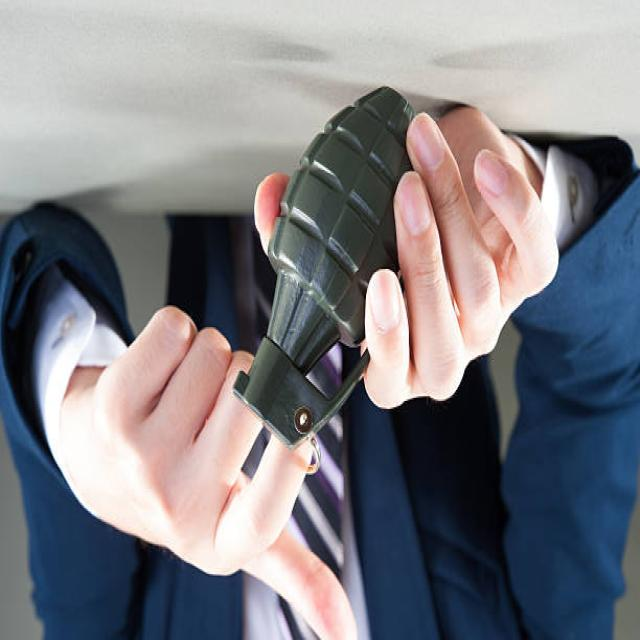grenade: (235, 82, 422, 448)
